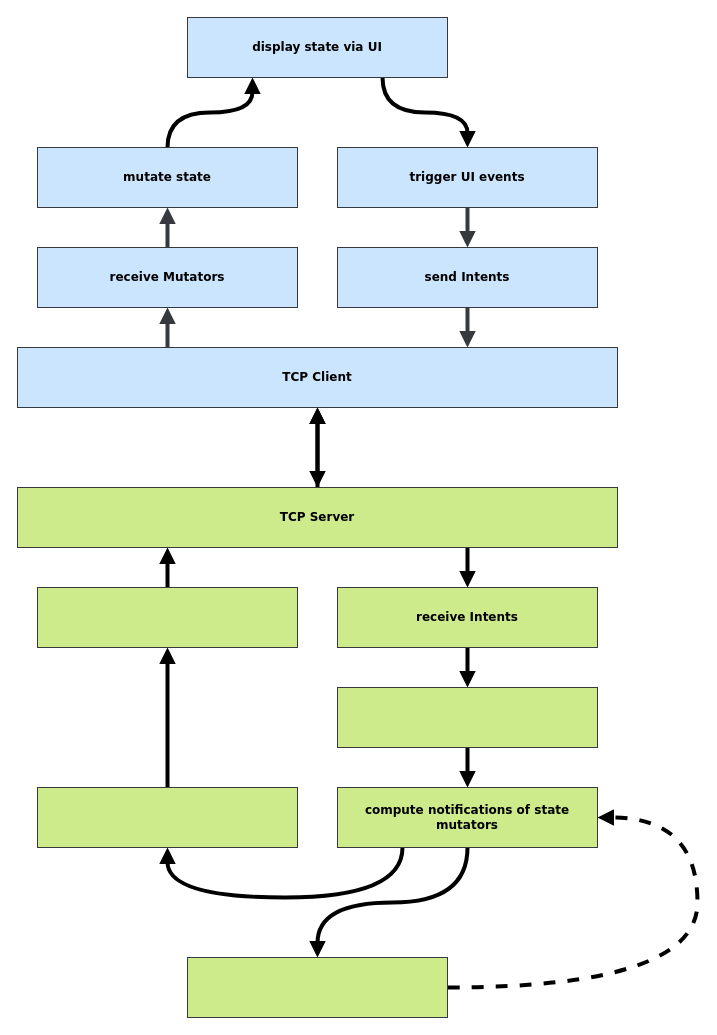
The diagram is 717 pixels wide and 1035 high, and some of its shapes have lost their labels. The box of each missing label's shape, as (x1, y1, x2, y2) in pixels:
match notifications to TCP tunnels: (36, 786, 298, 848)
send Mutators to appropriate tunnels: (36, 586, 298, 648)
server mutators modify server-side state: (186, 956, 448, 1018)
validate Intents: (336, 686, 598, 748)
